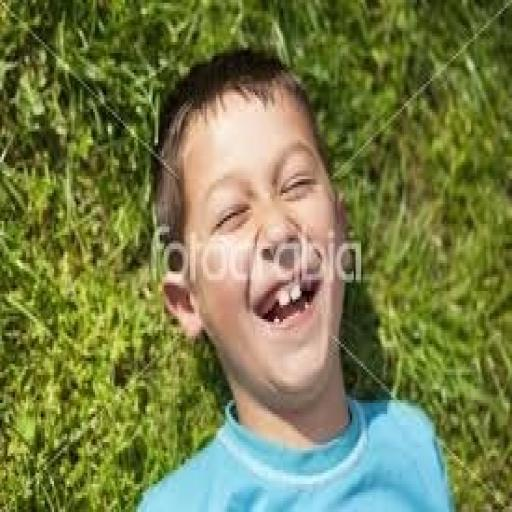laughing: (121, 39, 460, 509)
